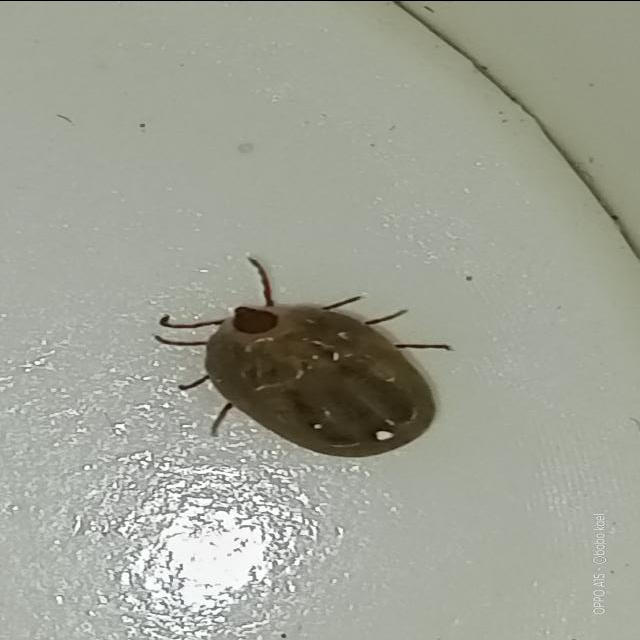Rhipicephalus Sanguineus-F-Fed: (151, 251, 453, 457)
